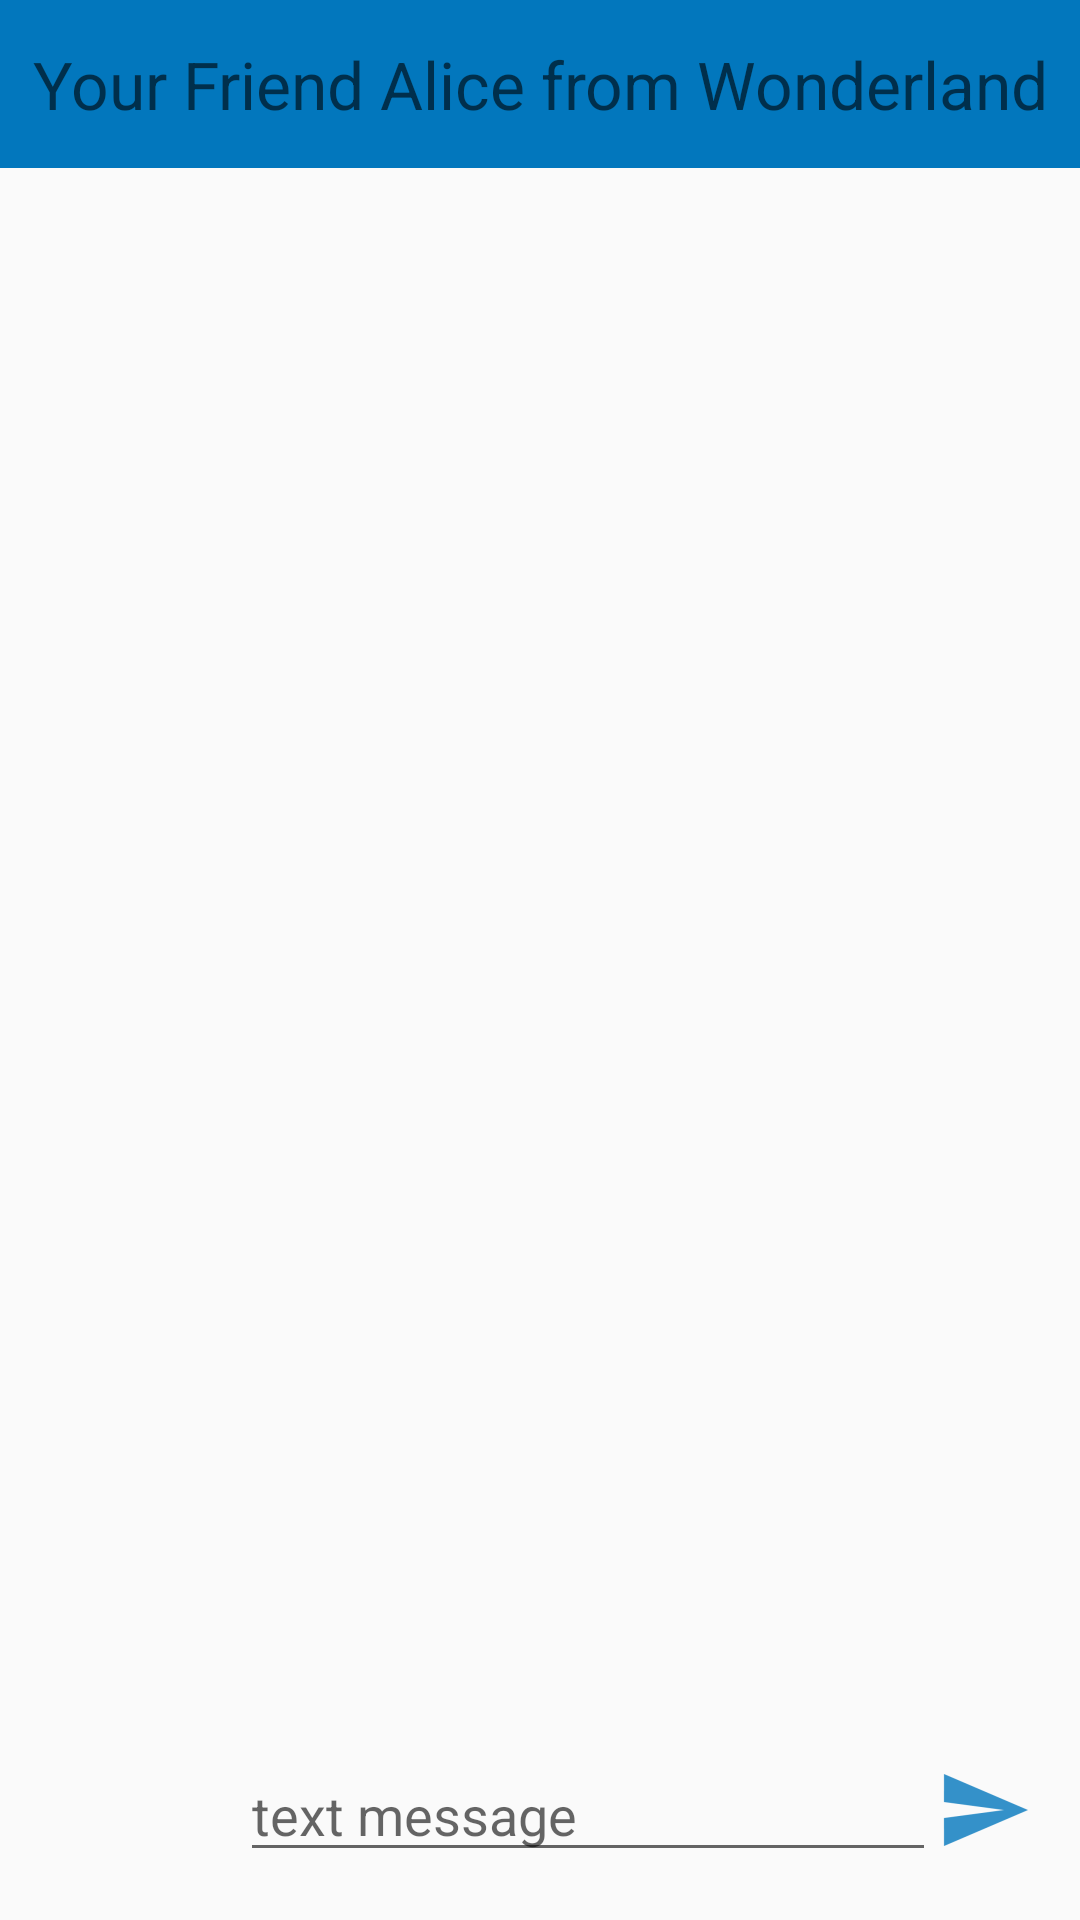

Icon click points for this 1080×1920 phone screenshot, format [x,y]:
Send: [986,1810]
